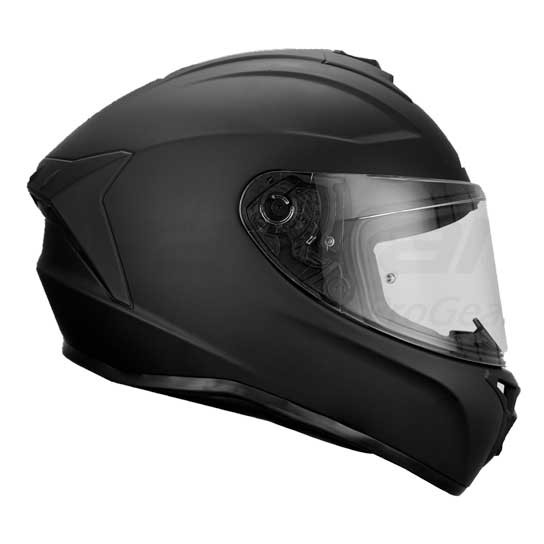helmet: (29, 35, 540, 532)
